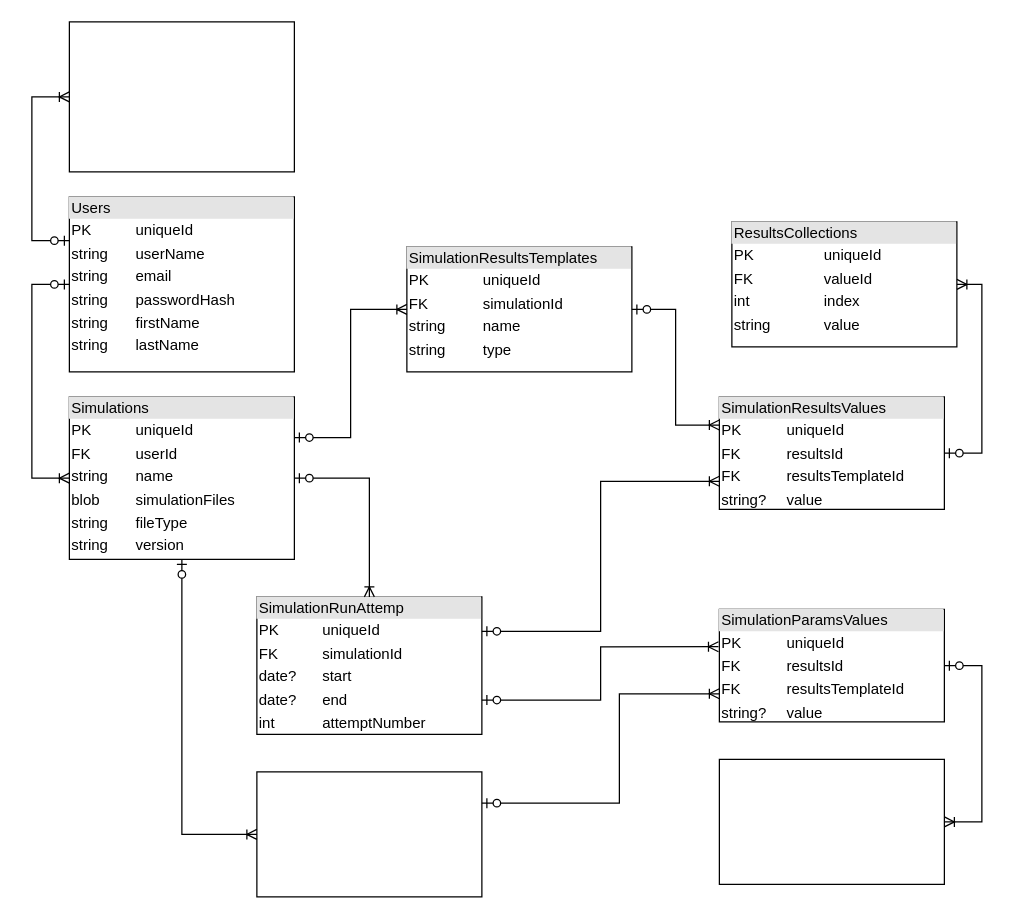
Some shapes in this 1015 by 919 pixel diagram are drawn without their labels. The shapes that lost their labels are listed below. From the top down, each one's centre as x and y in pixels, then its label:
the point at 181,96: RefreshToken PK uniqueId FK userId string token date expires boolean revoked
the point at 369,834: SimulationParamsTemplates PK uniqueId FK simulationId string name string type
the point at 831,821: ParamsCollections PK uniqueId FK valueId int index string value
